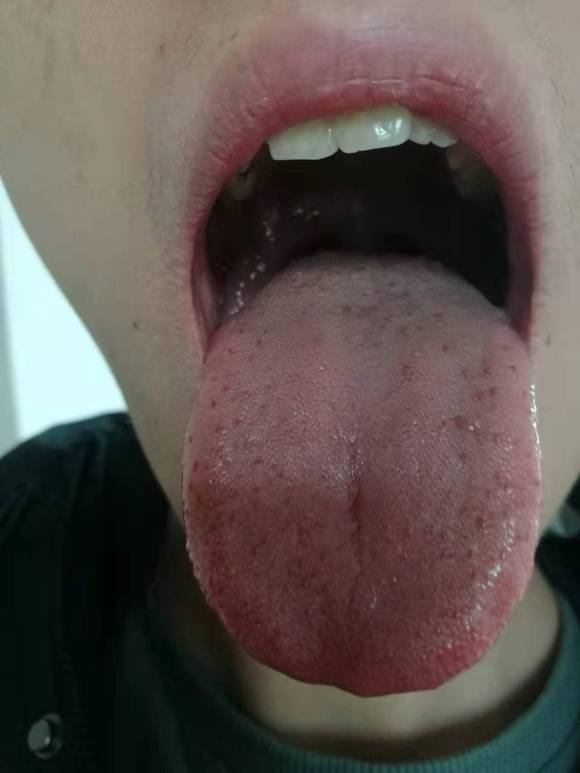hongdianshe: (189, 457, 202, 475), (438, 338, 449, 354), (206, 397, 217, 411)
hongshe: (183, 250, 541, 697)
